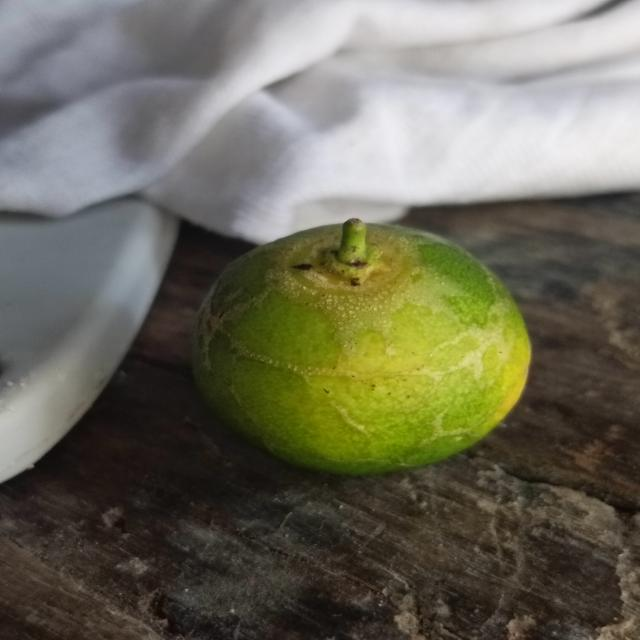thrips: (192, 220, 535, 475)
